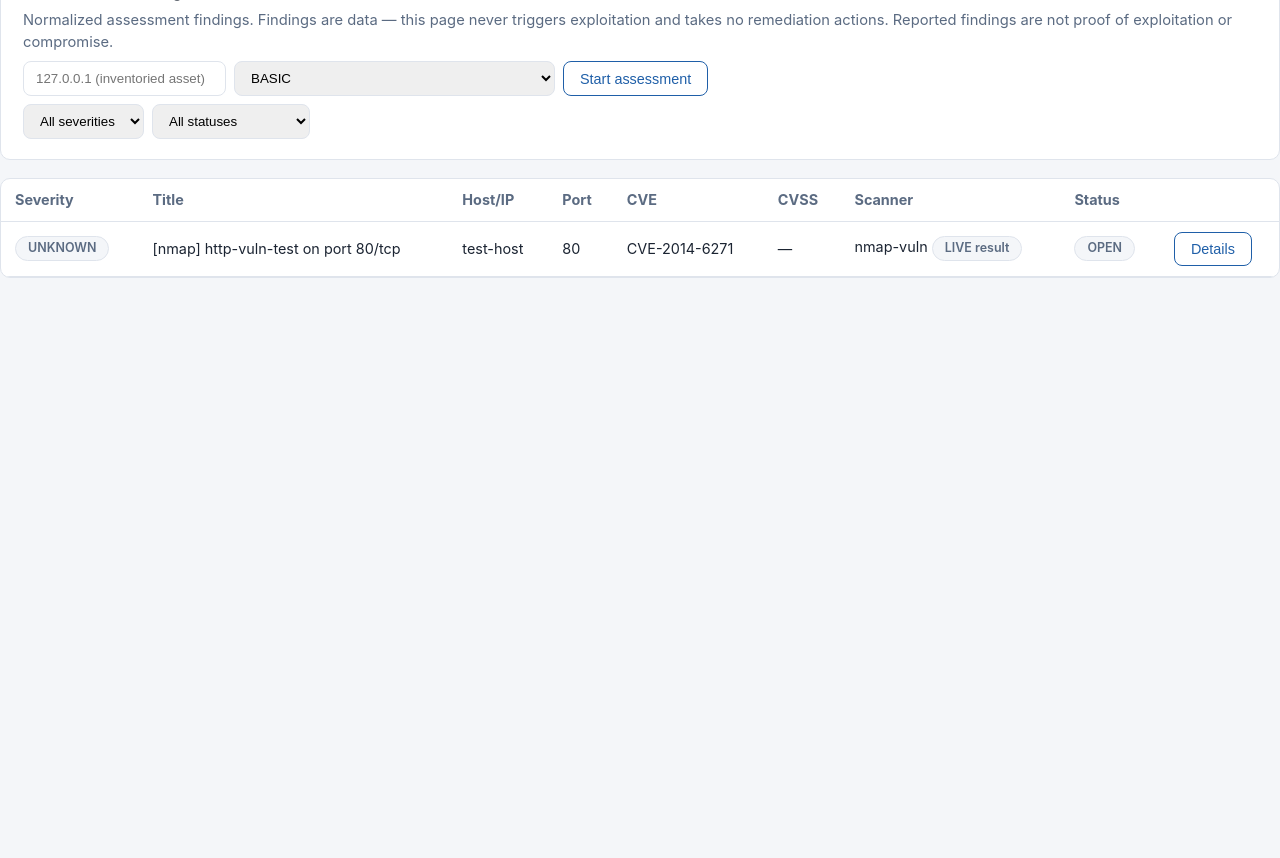
Test: Vulnerabilities assessment flow (Step 22) › pages audit history with bounded offsets and boundary states
The image size is (1280, 858).
Click the button "Details" at [1213, 249], box [1174,232,1252,266]
(page scrolled)
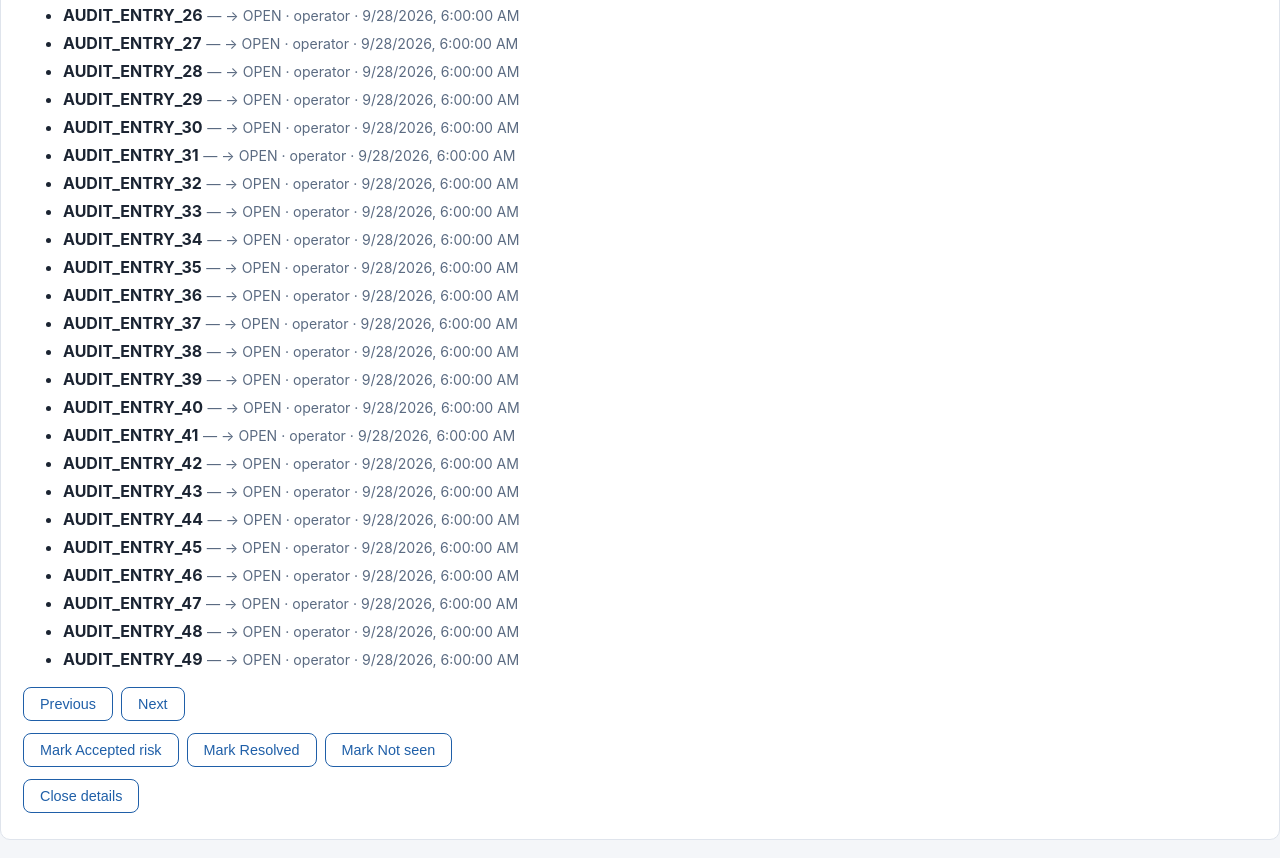
expect the button with aria-label "Previous audit page" is disabled: met, box [23,688,113,722]
expect the button with aria-label "Next audit page" is enabled: met
Click the button with aria-label "Next audit page" at [153, 704], box [121,688,185,722]
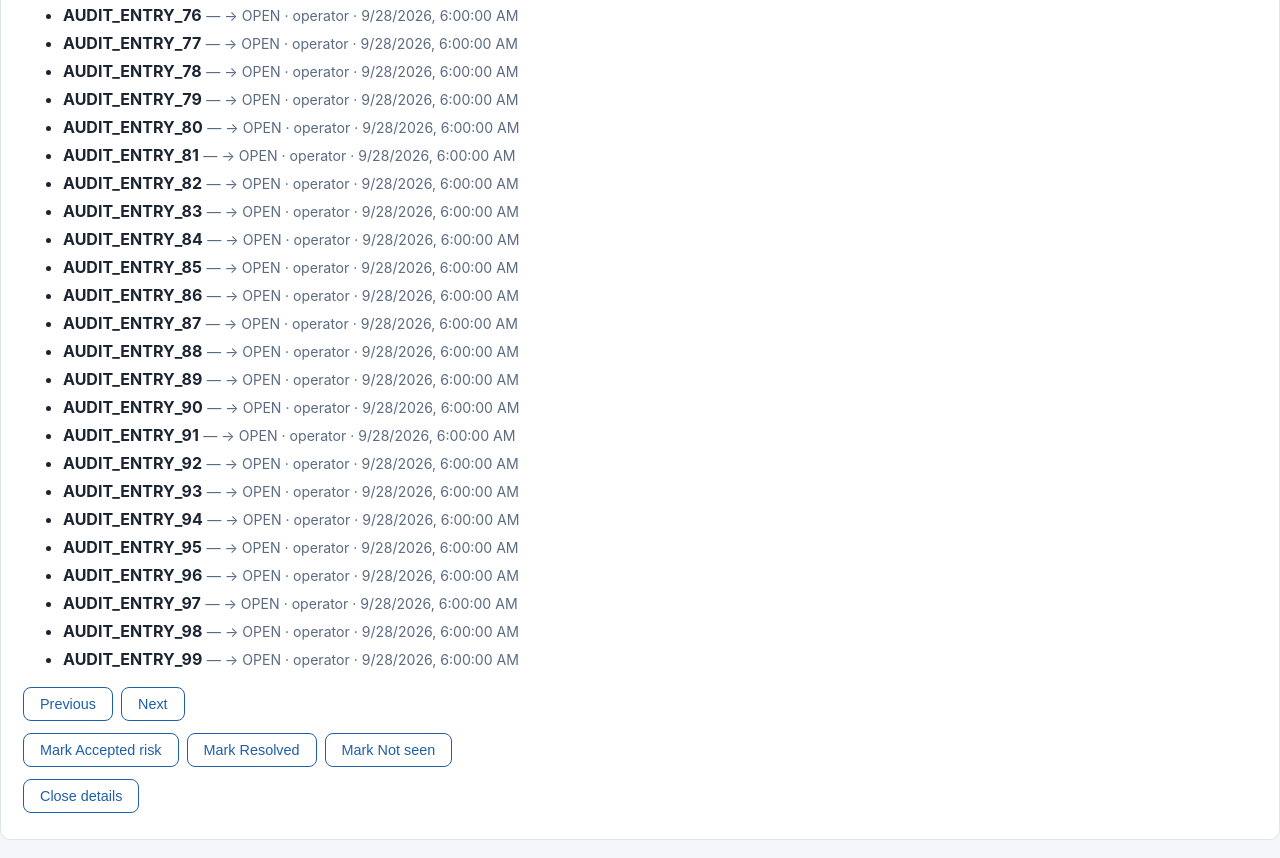
expect the button with aria-label "Previous audit page" is enabled: met, box [23,688,113,722]
expect the button with aria-label "Next audit page" is enabled: met
Click the button with aria-label "Next audit page" at [153, 704], box [121,688,185,722]
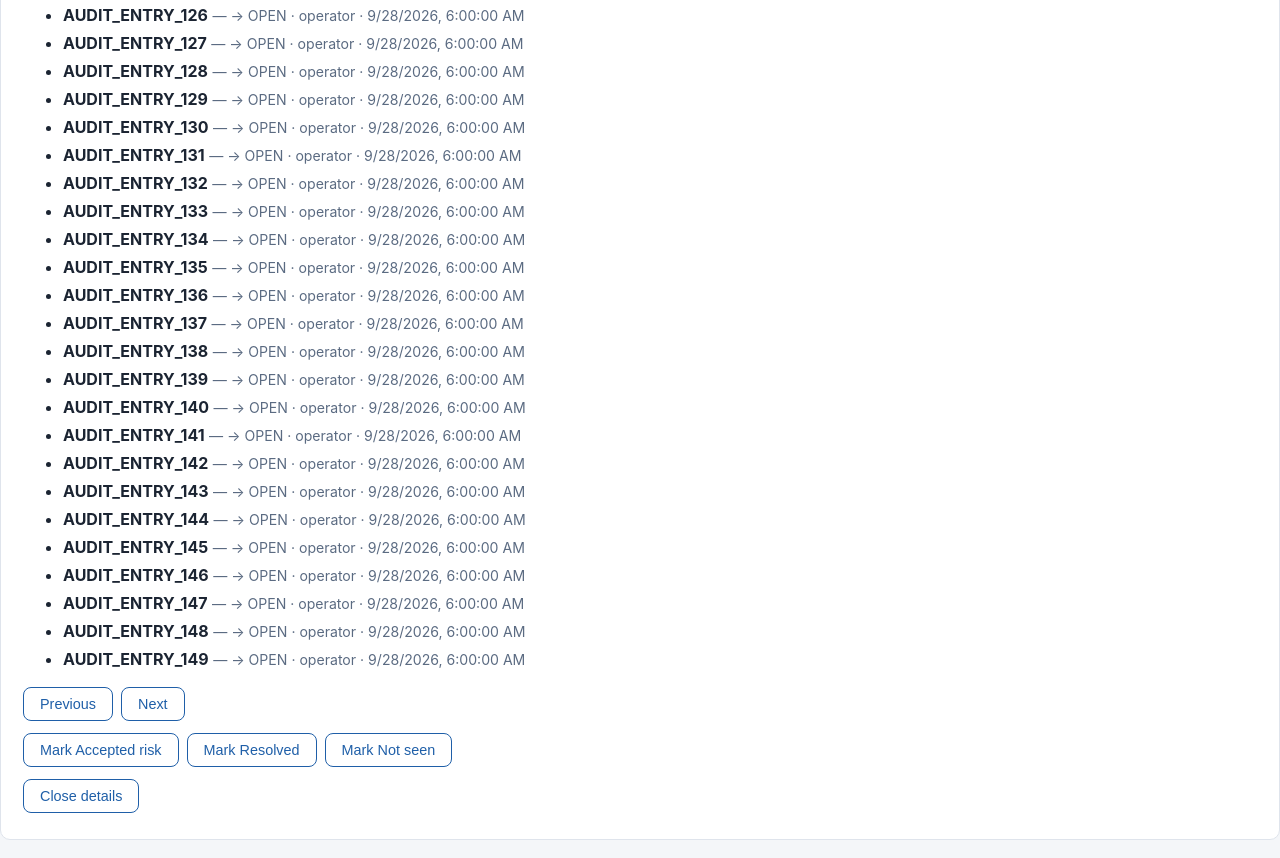
Click the button with aria-label "Next audit page" at [153, 704], box [121,688,185,722]
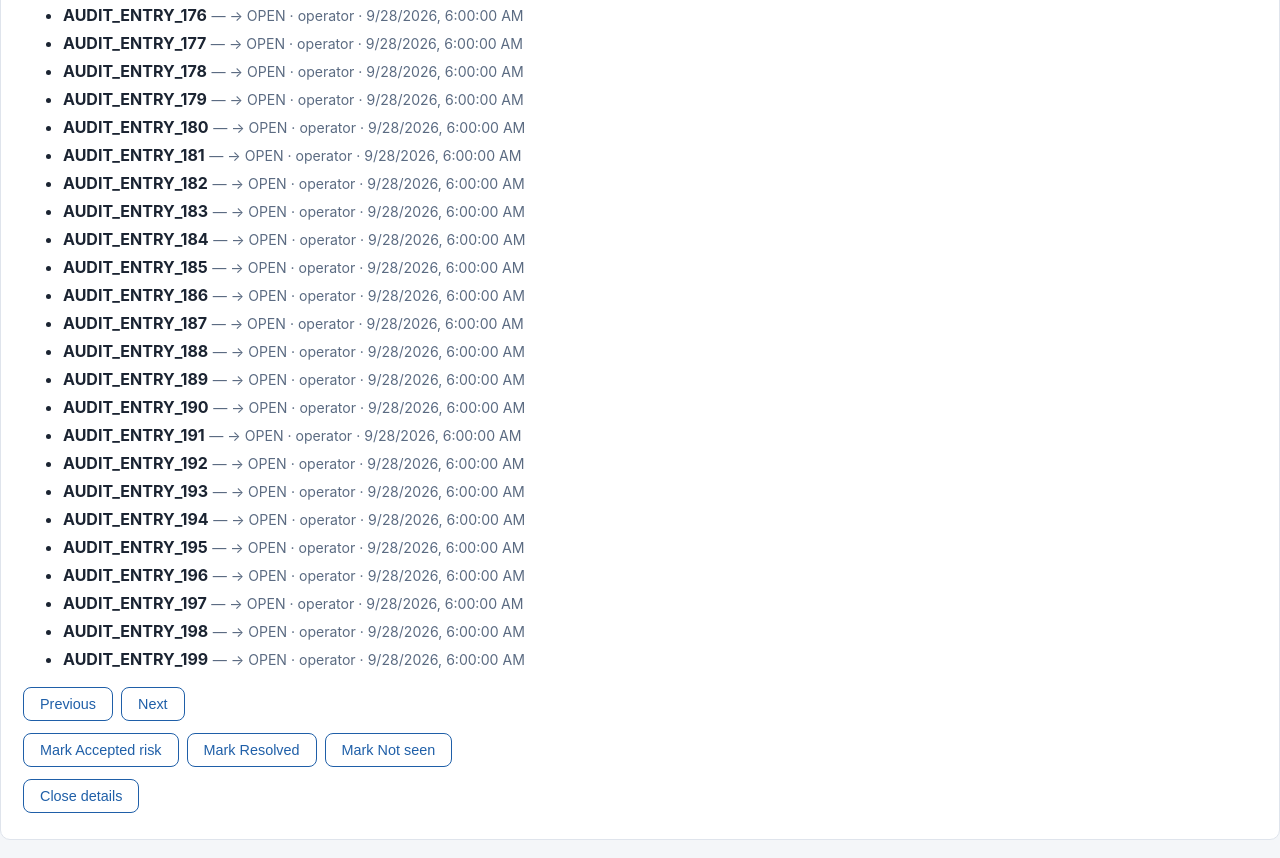
Click the button with aria-label "Next audit page" at [153, 704], box [121,688,185,722]
(page scrolled)
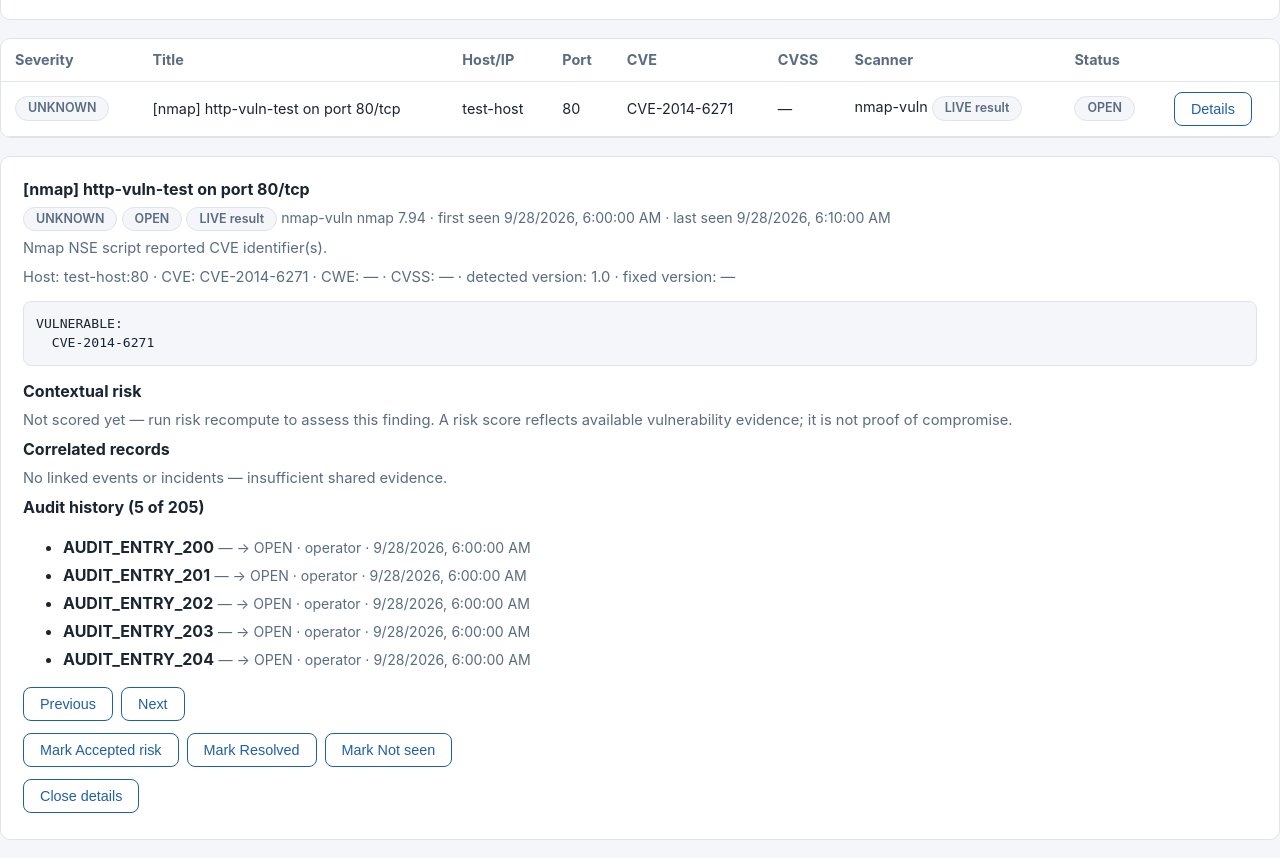
expect the text "AUDIT_ENTRY_200" is shown: met, box [63,537,214,557]
expect the heading "Audit history (5 of 205)" is shown: met, box [23,497,204,517]
expect the text "AUDIT_ENTRY_200" is shown 5 times: met, box [63,537,214,557]; [63,565,210,585]; [63,593,213,613]; [63,621,214,641]; [63,649,214,669]
